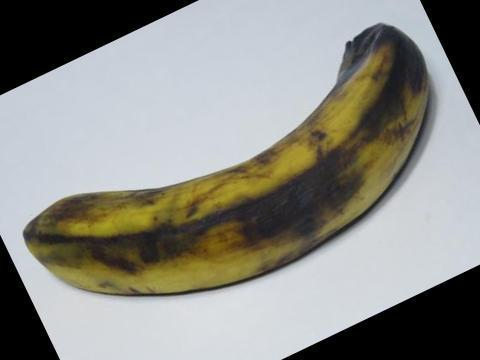overripe: (14, 7, 436, 316)
